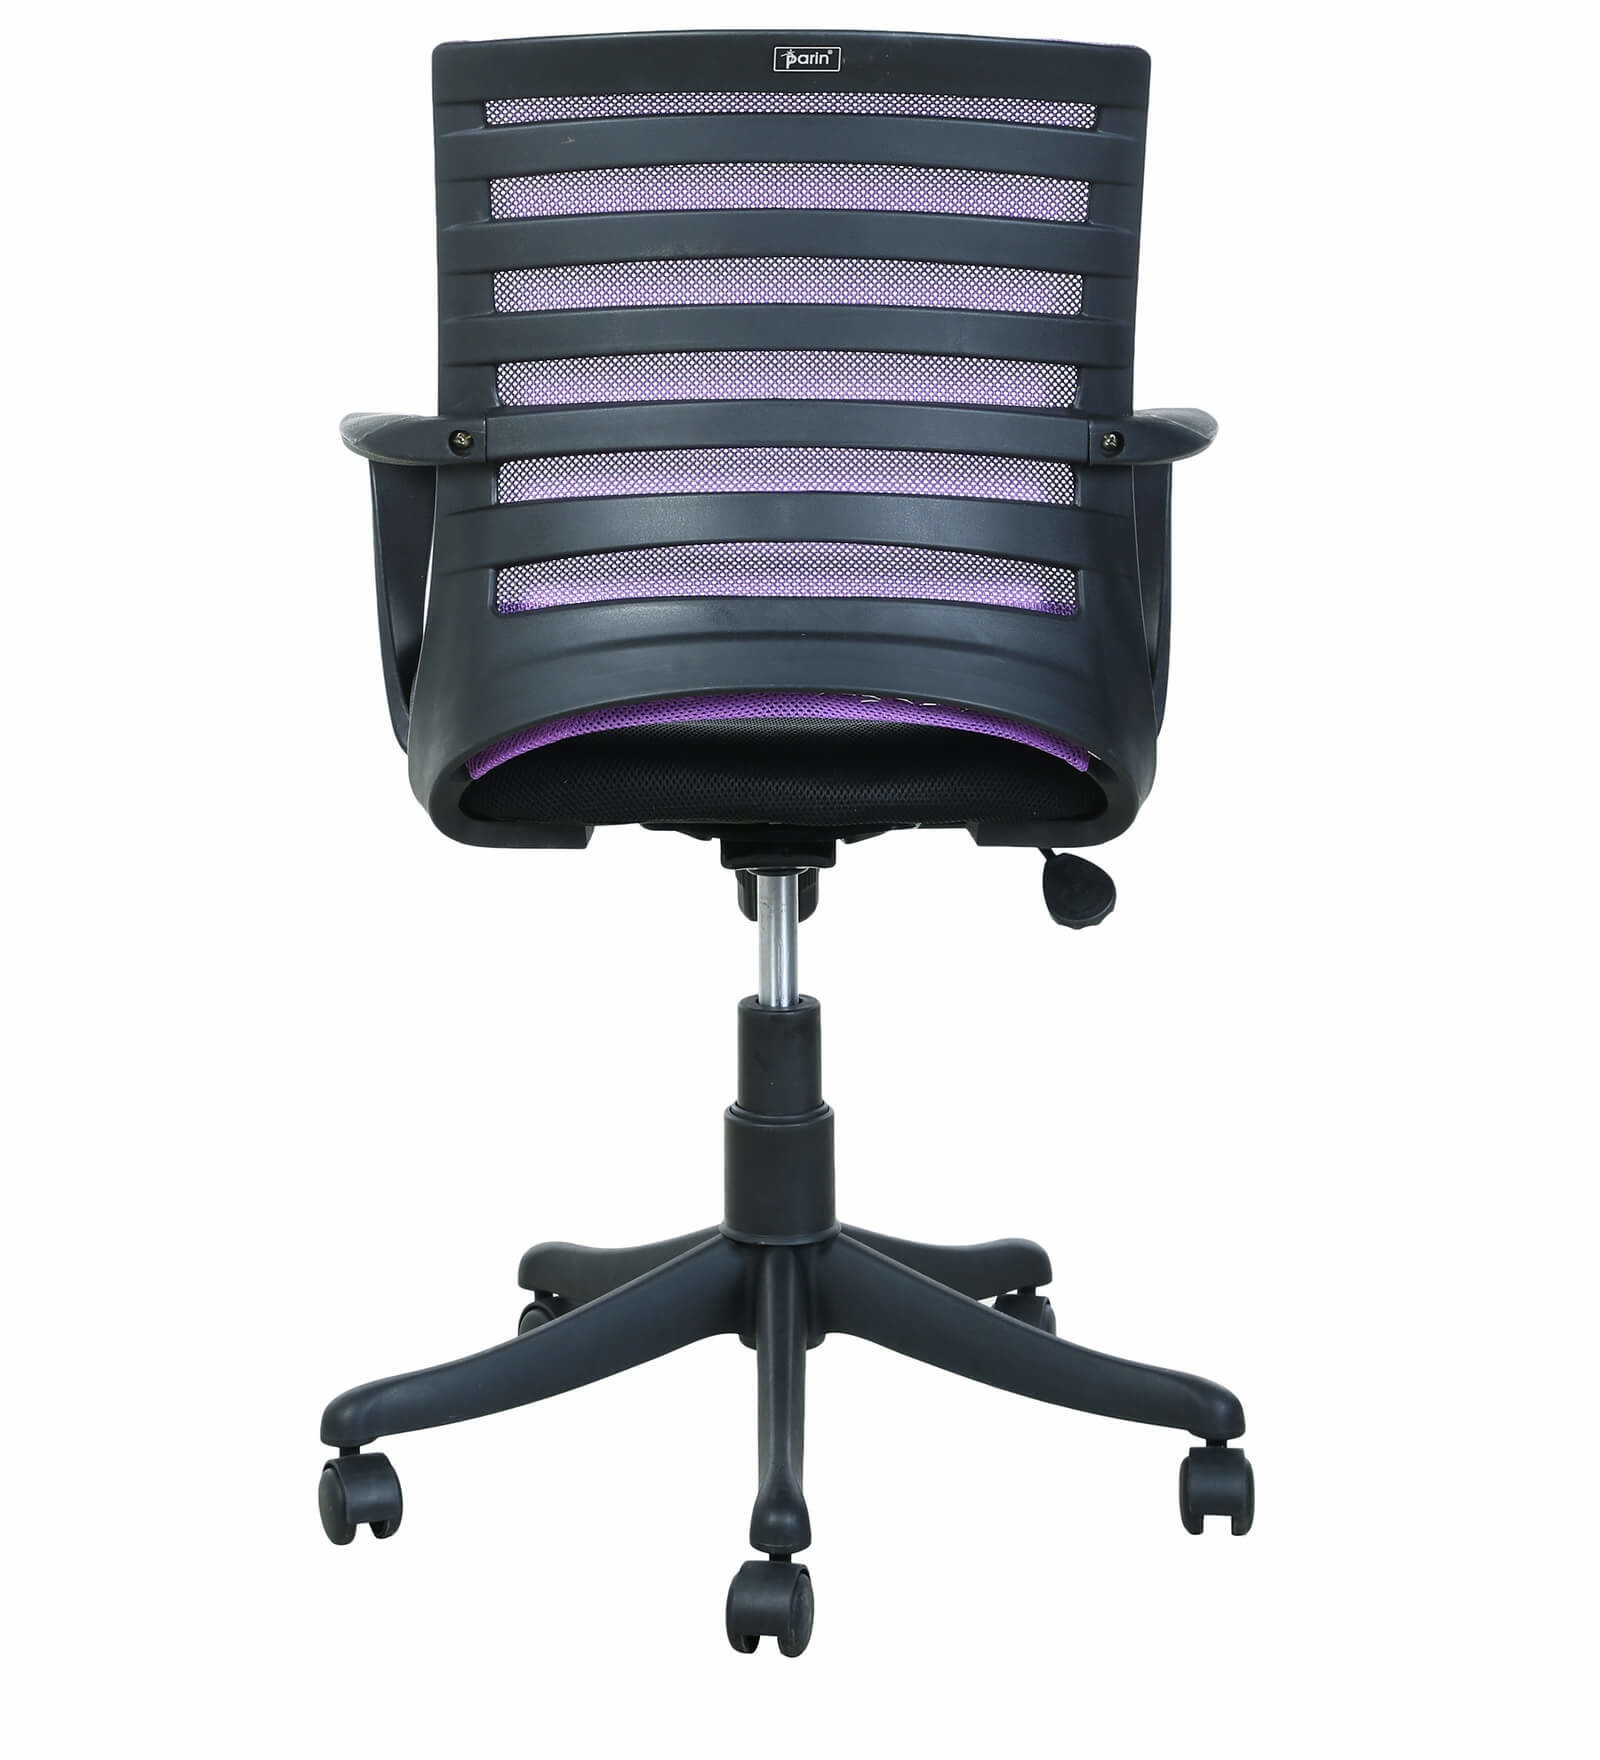Trendy Ergonomic Chair in Purple Colour by Parin: (316, 28, 1329, 1696)
